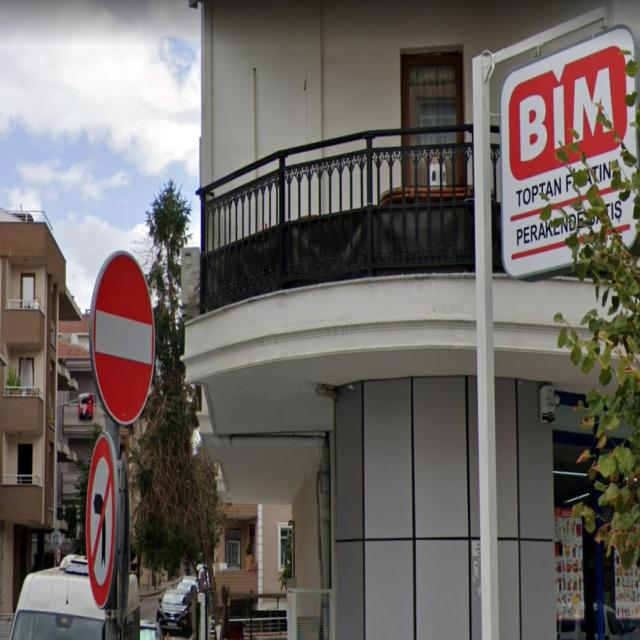girisyok: (93, 250, 155, 428)
soladonulmez: (84, 434, 116, 612)
